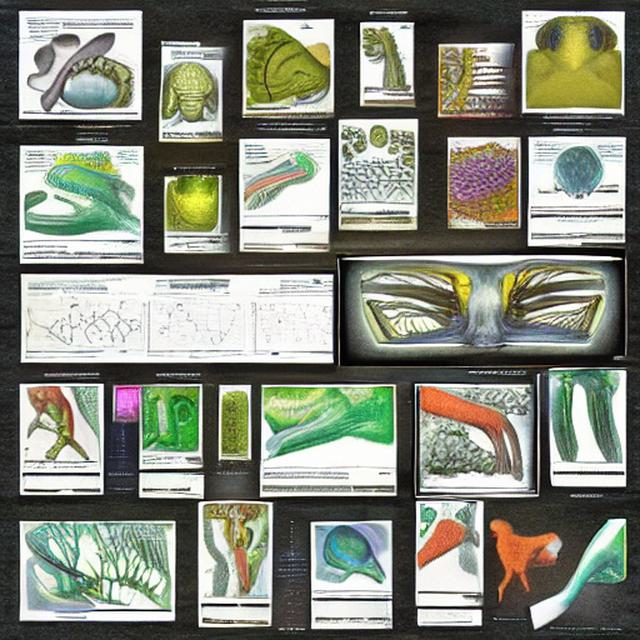Graph: (136, 291, 247, 360), (205, 470, 258, 501)
